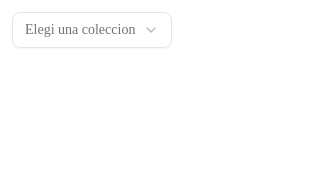
Scenario: Select › lists the options when opened and reports the selection
Click the dropdown.
click(92, 30)  # box [12,12,172,48]
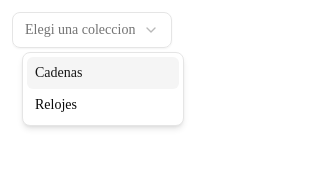
Now the number of options is 2
Click the option "Relojes".
click(56, 104)  # box [35,97,77,112]
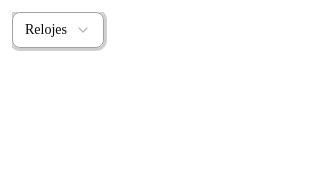
Now the dropdown reads "Relojes", box [12,12,104,48]
